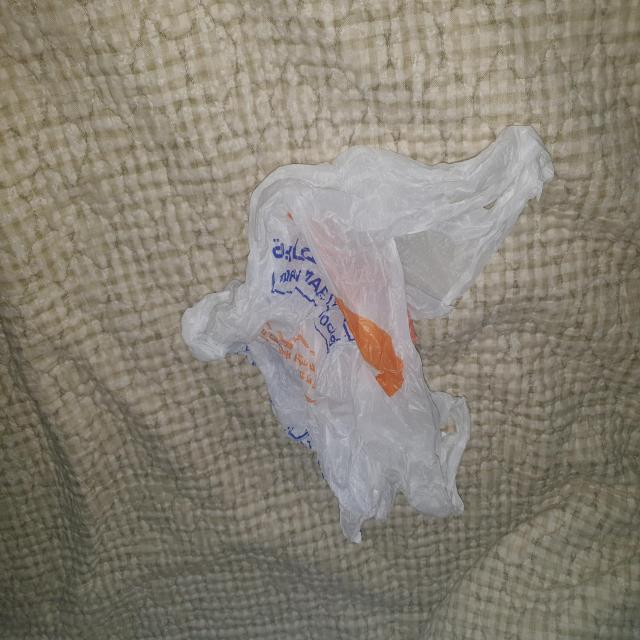plastic bag: (183, 123, 554, 548)
